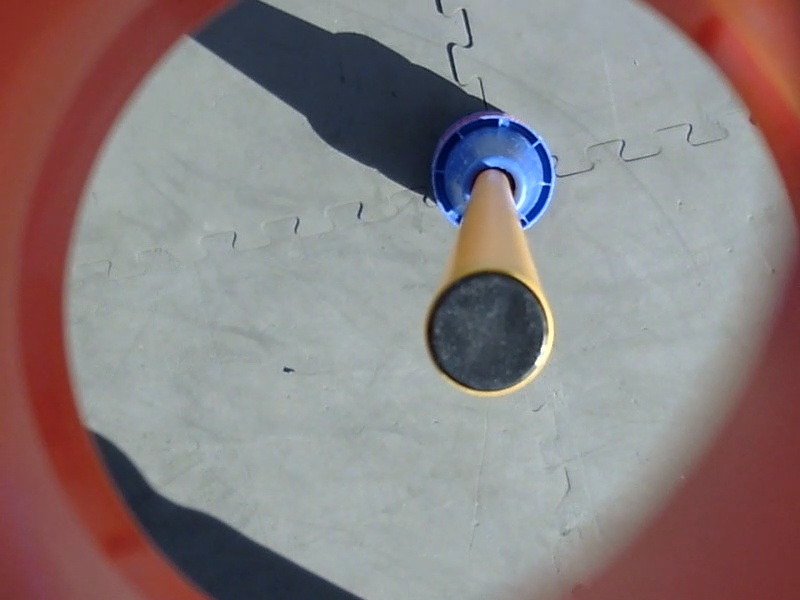tip: (418, 263, 560, 400)
